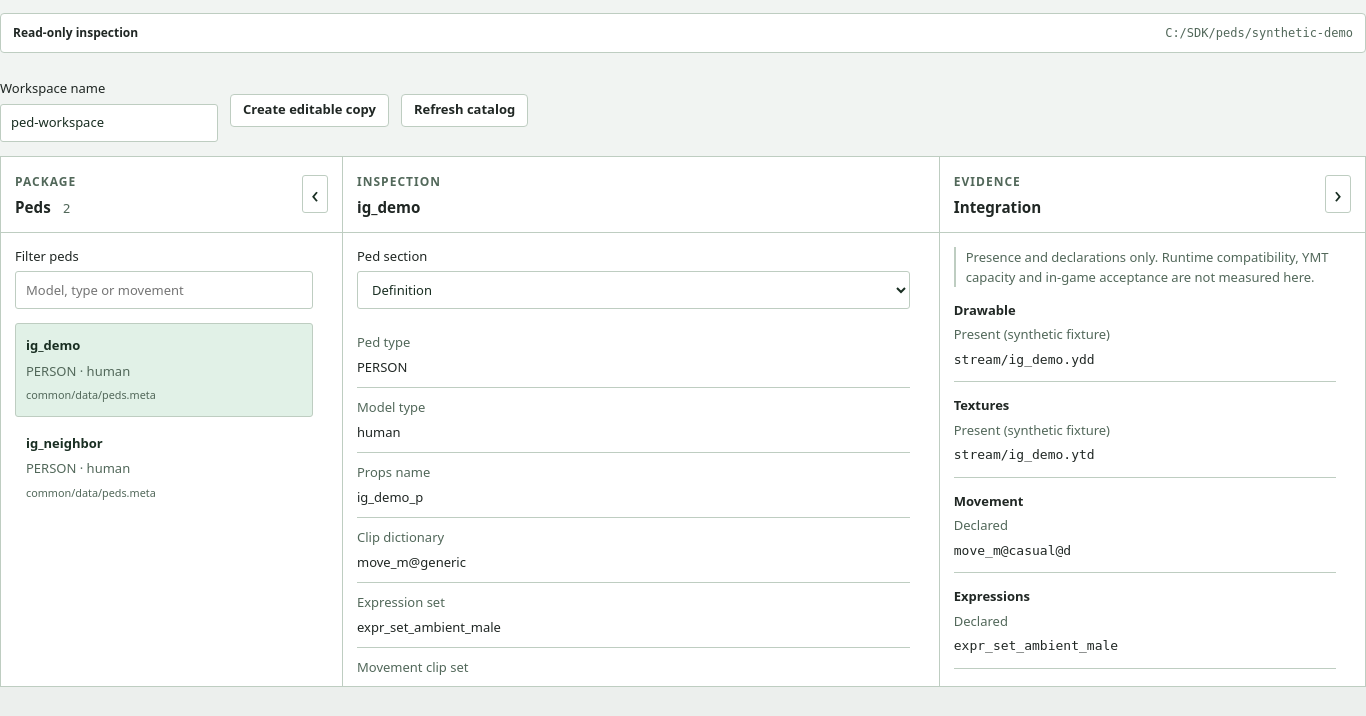
reviews workspace copying before permitting creation
This screenshot has width=1366, height=716.
Expected: the heading "ig_demo" is shown, [357,197,420,217]
Click the button "Create editable copy".
click(309, 110)  # box [230,94,389,127]
(page scrolled)
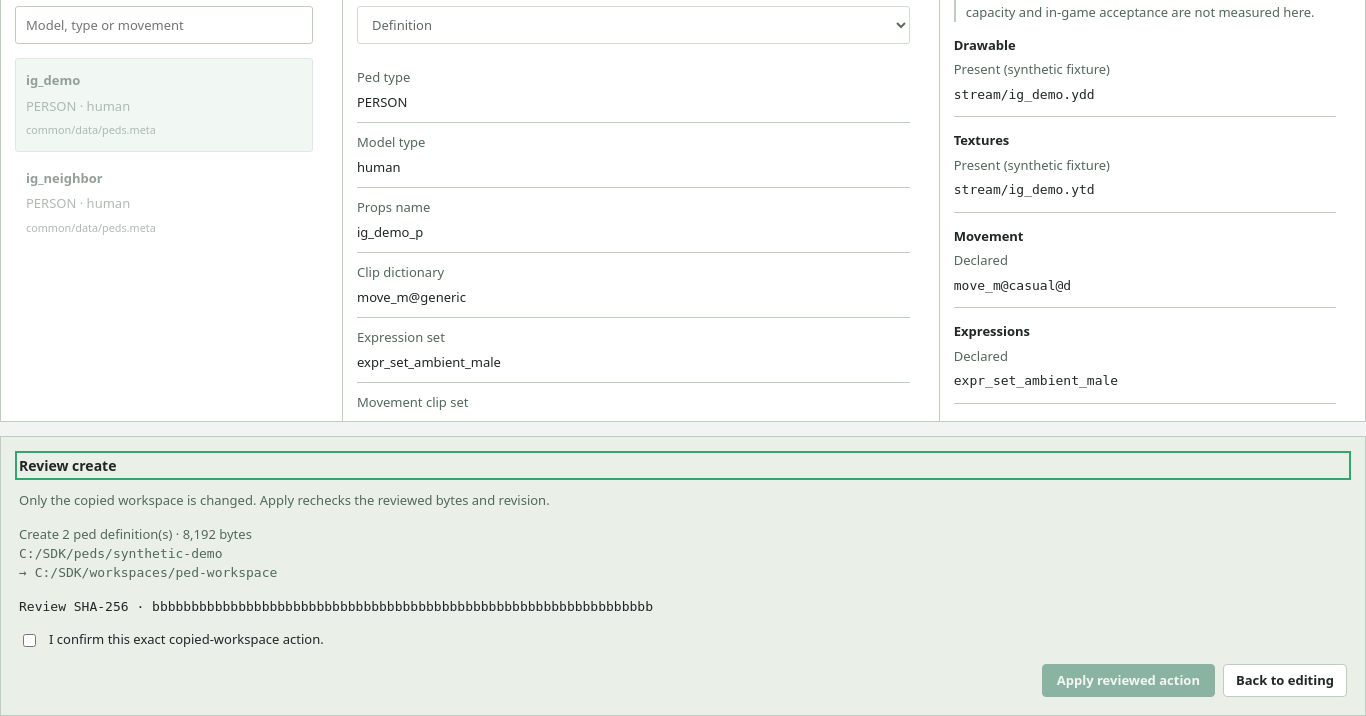
Expected: the heading "Review create" is shown, [19,456,116,475]
Expected: the text "→ C:/SDK/workspaces/ped-workspace" is shown, [19,565,277,580]
Expected: the button "Apply reviewed action" is disabled, [1042,664,1215,697]
